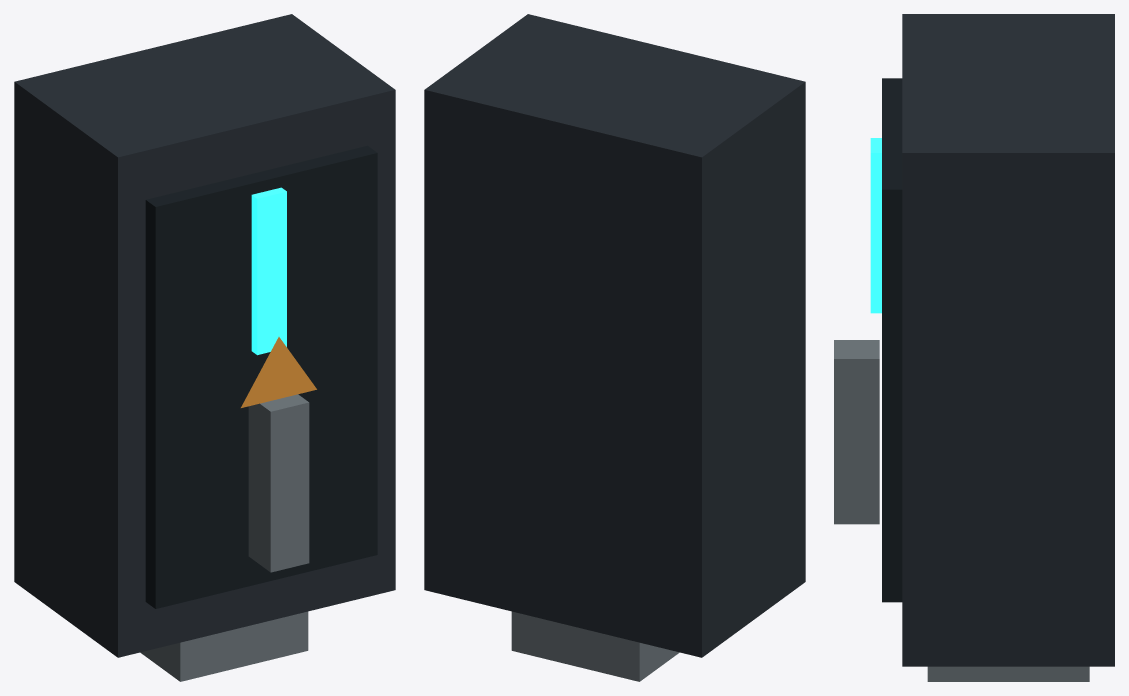
File: missile_module.glb
The picture shows the model from 3 angles, left to right: view 1: azimuth 30°, elevation 25°; view 2: azimuth 150°, elevation 25°; view 3: azimuth 270°, elevation 25°; orthographic projection. The views are drawn at different scales.
Parts seen in each view (by area): view 1: Cartridge, CartridgeFace, MissileGlyph, LockTab, CapacityStripe, MissileTip; view 2: Cartridge, LockTab; view 3: Cartridge, CartridgeFace, MissileGlyph, LockTab, CapacityStripe.
Boxes of the visible parts, left/top/right/bottom form: Cartridge: left=14, top=14, right=395, bottom=657; CartridgeFace: left=145, top=145, right=377, bottom=608; MissileGlyph: left=248, top=394, right=309, bottom=572; LockTab: left=140, top=611, right=308, bottom=681; CapacityStripe: left=251, top=187, right=286, bottom=355; MissileTip: left=241, top=337, right=316, bottom=407; Cartridge: left=424, top=14, right=805, bottom=657; LockTab: left=511, top=611, right=679, bottom=681; Cartridge: left=902, top=14, right=1114, bottom=666; CartridgeFace: left=882, top=78, right=902, bottom=602; MissileGlyph: left=834, top=340, right=879, bottom=524; LockTab: left=927, top=666, right=1089, bottom=681; CapacityStripe: left=870, top=138, right=881, bottom=313.
Size of the model in its own units: 0.65 by 1.24 by 0.555.
